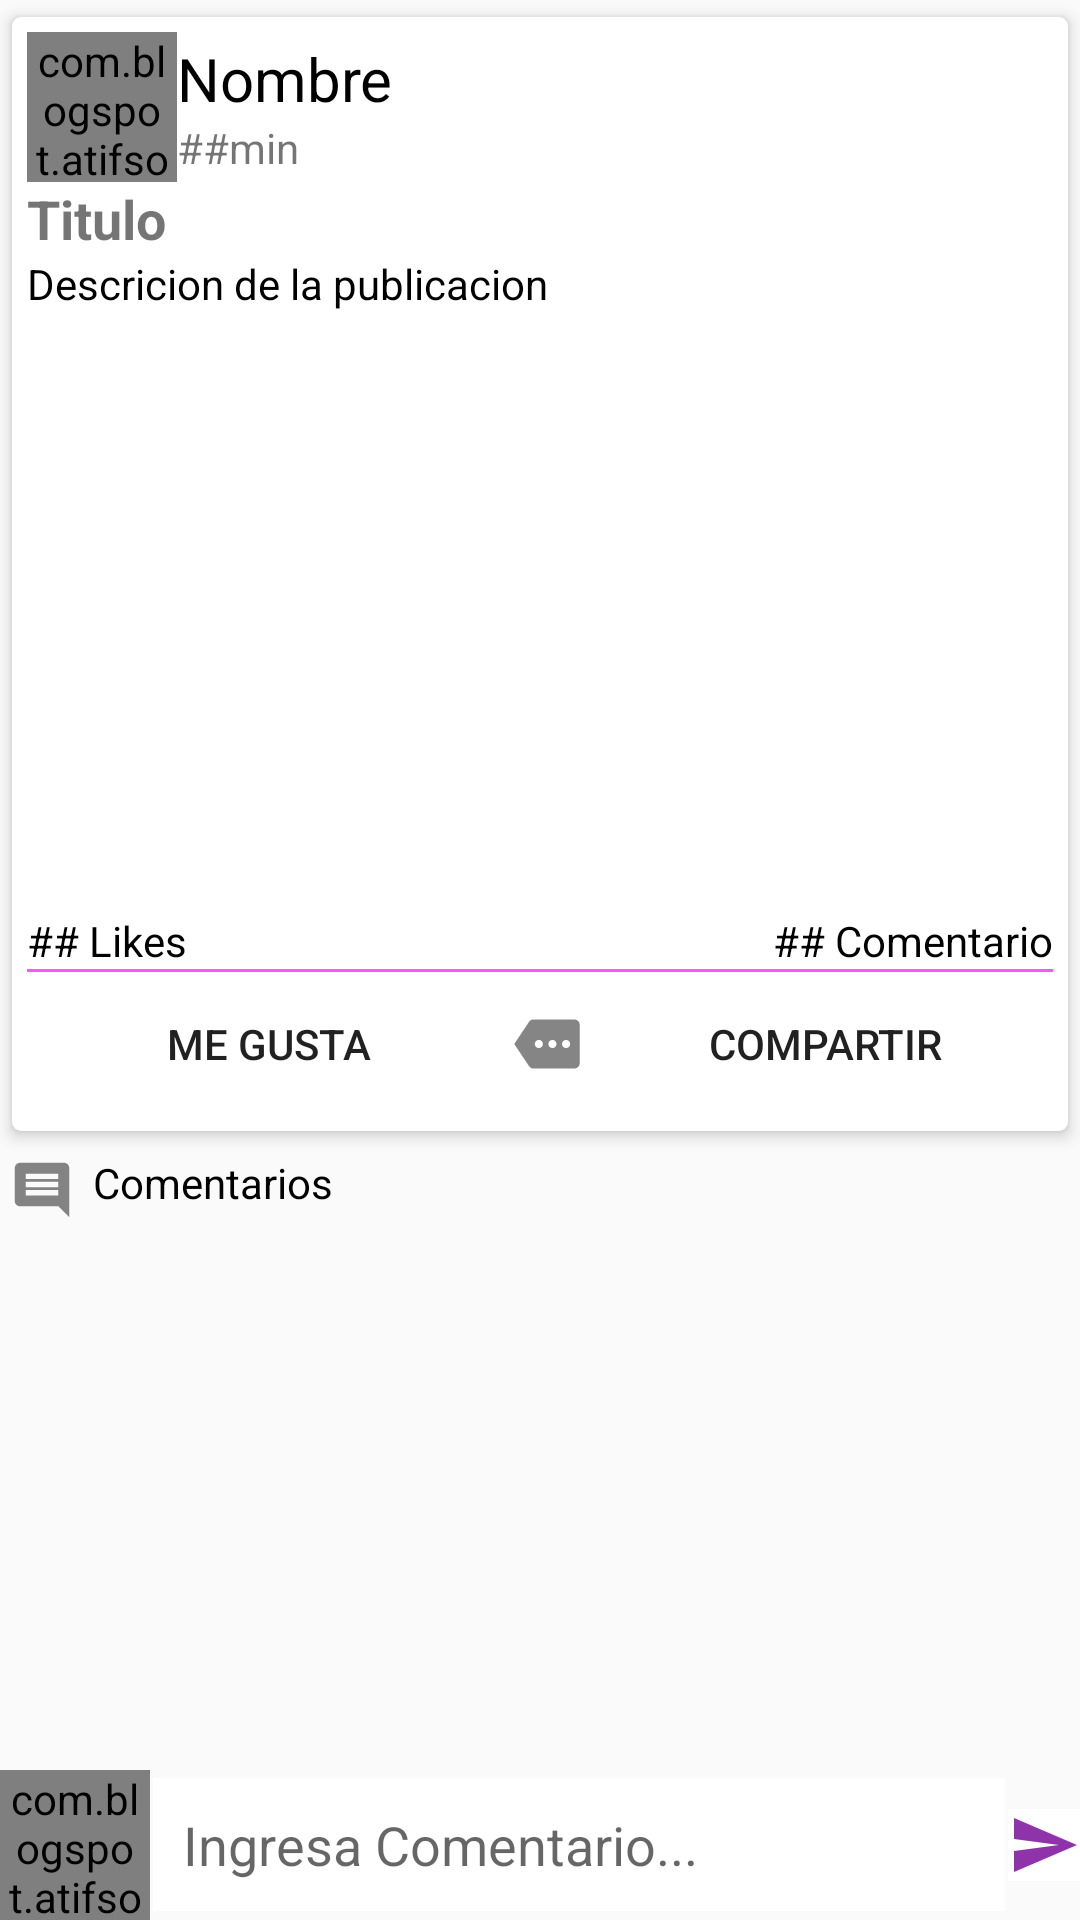

Screen size 1080px×1920px. Icon name, then its box in pixels as [x1,y1,x2,y2]:
send: [1014,1818,1077,1872]
